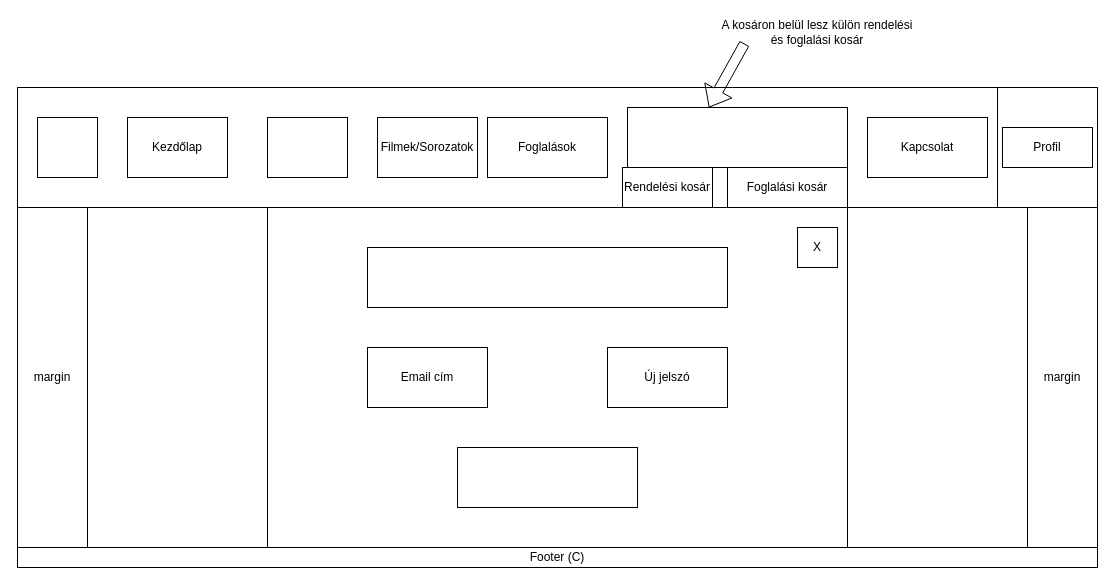
Some shapes in this 1115 by 585 pixel diagram are drawn without their labels. The centre of each missing label's shape, as x and y in pixels:
"Kosár" belongs at (737,137).
"Logo" belongs at (67,147).
"Módosítások mentése" belongs at (547,477).
"Profil szerkesztése" belongs at (547,277).
"Zenék" belongs at (307,147).
